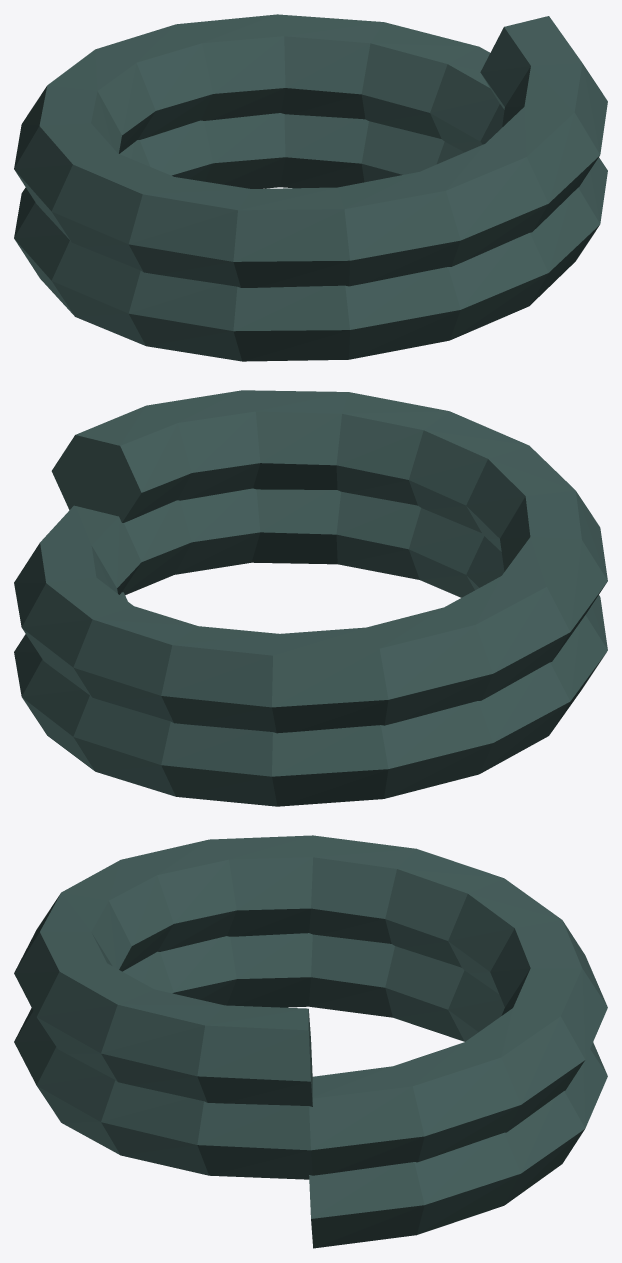
File: Spring_Coil.gltf
3 views of the same model, one above another, from view 1: azimuth 30°, elevation 25°; view 2: azimuth 150°, elevation 25°; view 3: azimuth 270°, elevation 25° (orthographic).
Visible parts, largest first — view 1: Spring_Coil_baked; view 2: Spring_Coil_baked; view 3: Spring_Coil_baked.
Boxes of the visible parts, x1,y1,x2,y2 form: Spring_Coil_baked: (14,14,607,361); Spring_Coil_baked: (14,390,607,806); Spring_Coil_baked: (14,835,607,1248).
Size of the model in its own units: 0.484 by 0.1962 by 0.484.
